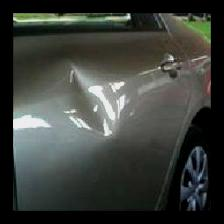door_dent: (38, 61, 117, 145)
